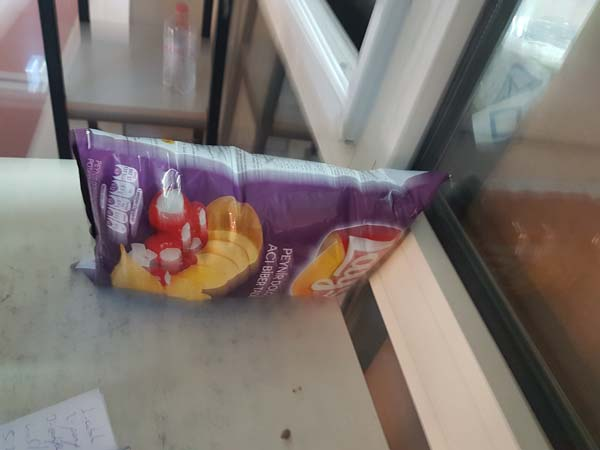layspeynirsoslu: (69, 128, 451, 305)
